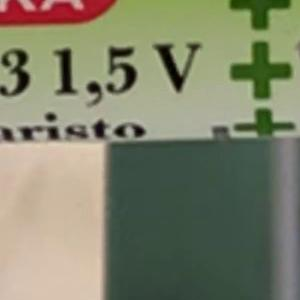1,5V: (35, 33, 211, 132)
